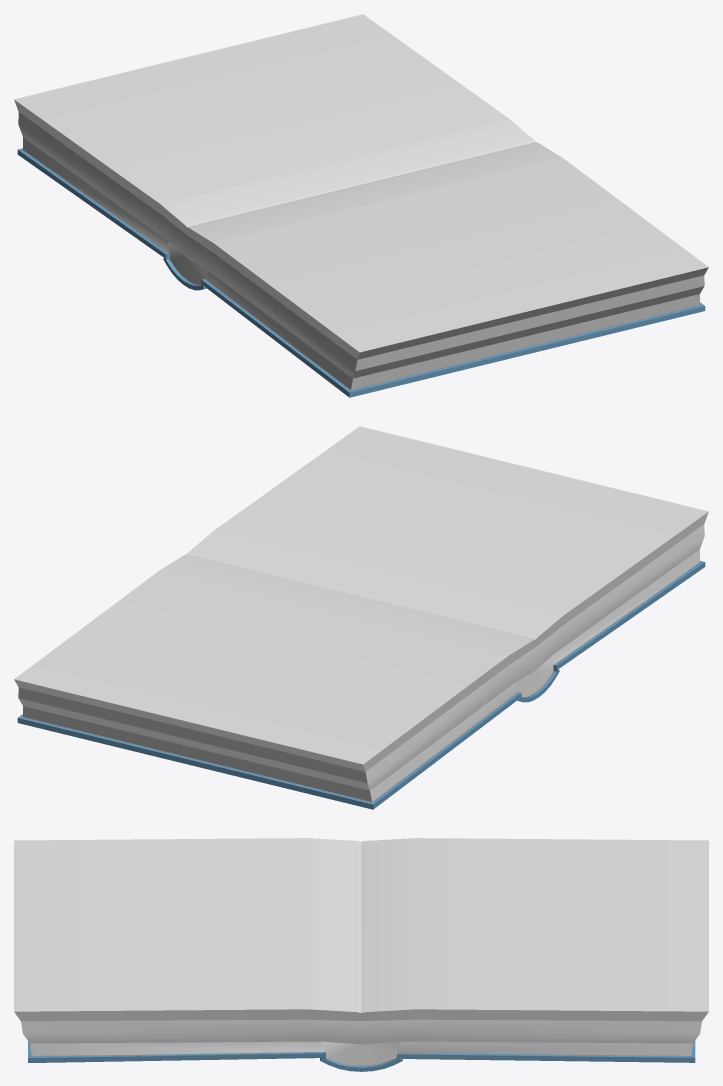
The model's file is Book v.3.fbx.
3 views of the same model, one above another, from view 1: azimuth 30°, elevation 25°; view 2: azimuth 150°, elevation 25°; view 3: azimuth 270°, elevation 25° (orthographic).
Visible parts, largest first — view 1: Cube.007, Cube.006; view 2: Cube.007, Cube.006; view 3: Cube.007, Cube.006.
Boxes of the visible parts, left/top/right/bottom form: Cube.007: left=14, top=14, right=708, bottom=389; Cube.006: left=17, top=148, right=705, bottom=397; Cube.007: left=14, top=426, right=708, bottom=801; Cube.006: left=17, top=561, right=705, bottom=809; Cube.007: left=14, top=838, right=708, bottom=1065; Cube.006: left=28, top=1041, right=695, bottom=1071.
Bounding box in the file's own units: 263 × 42.87 × 443.
